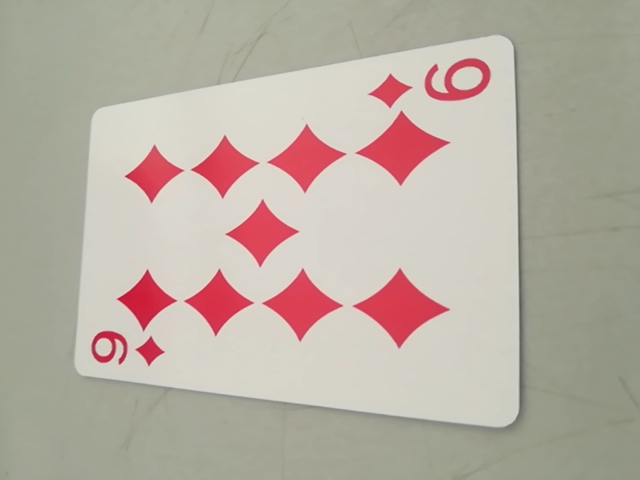fk 9: (367, 53, 497, 118), (82, 327, 172, 379)
